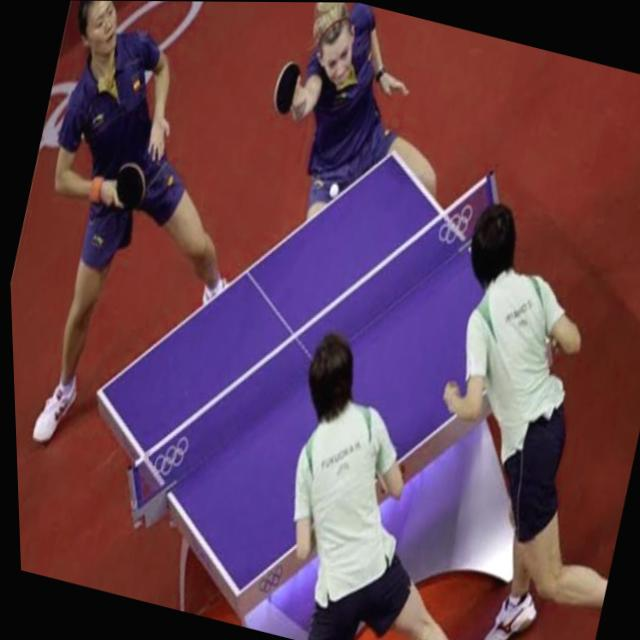TT Net: (124, 162, 503, 530)
TT Racket: (111, 151, 148, 224), (267, 56, 305, 123)
TT Table: (99, 154, 554, 597)
